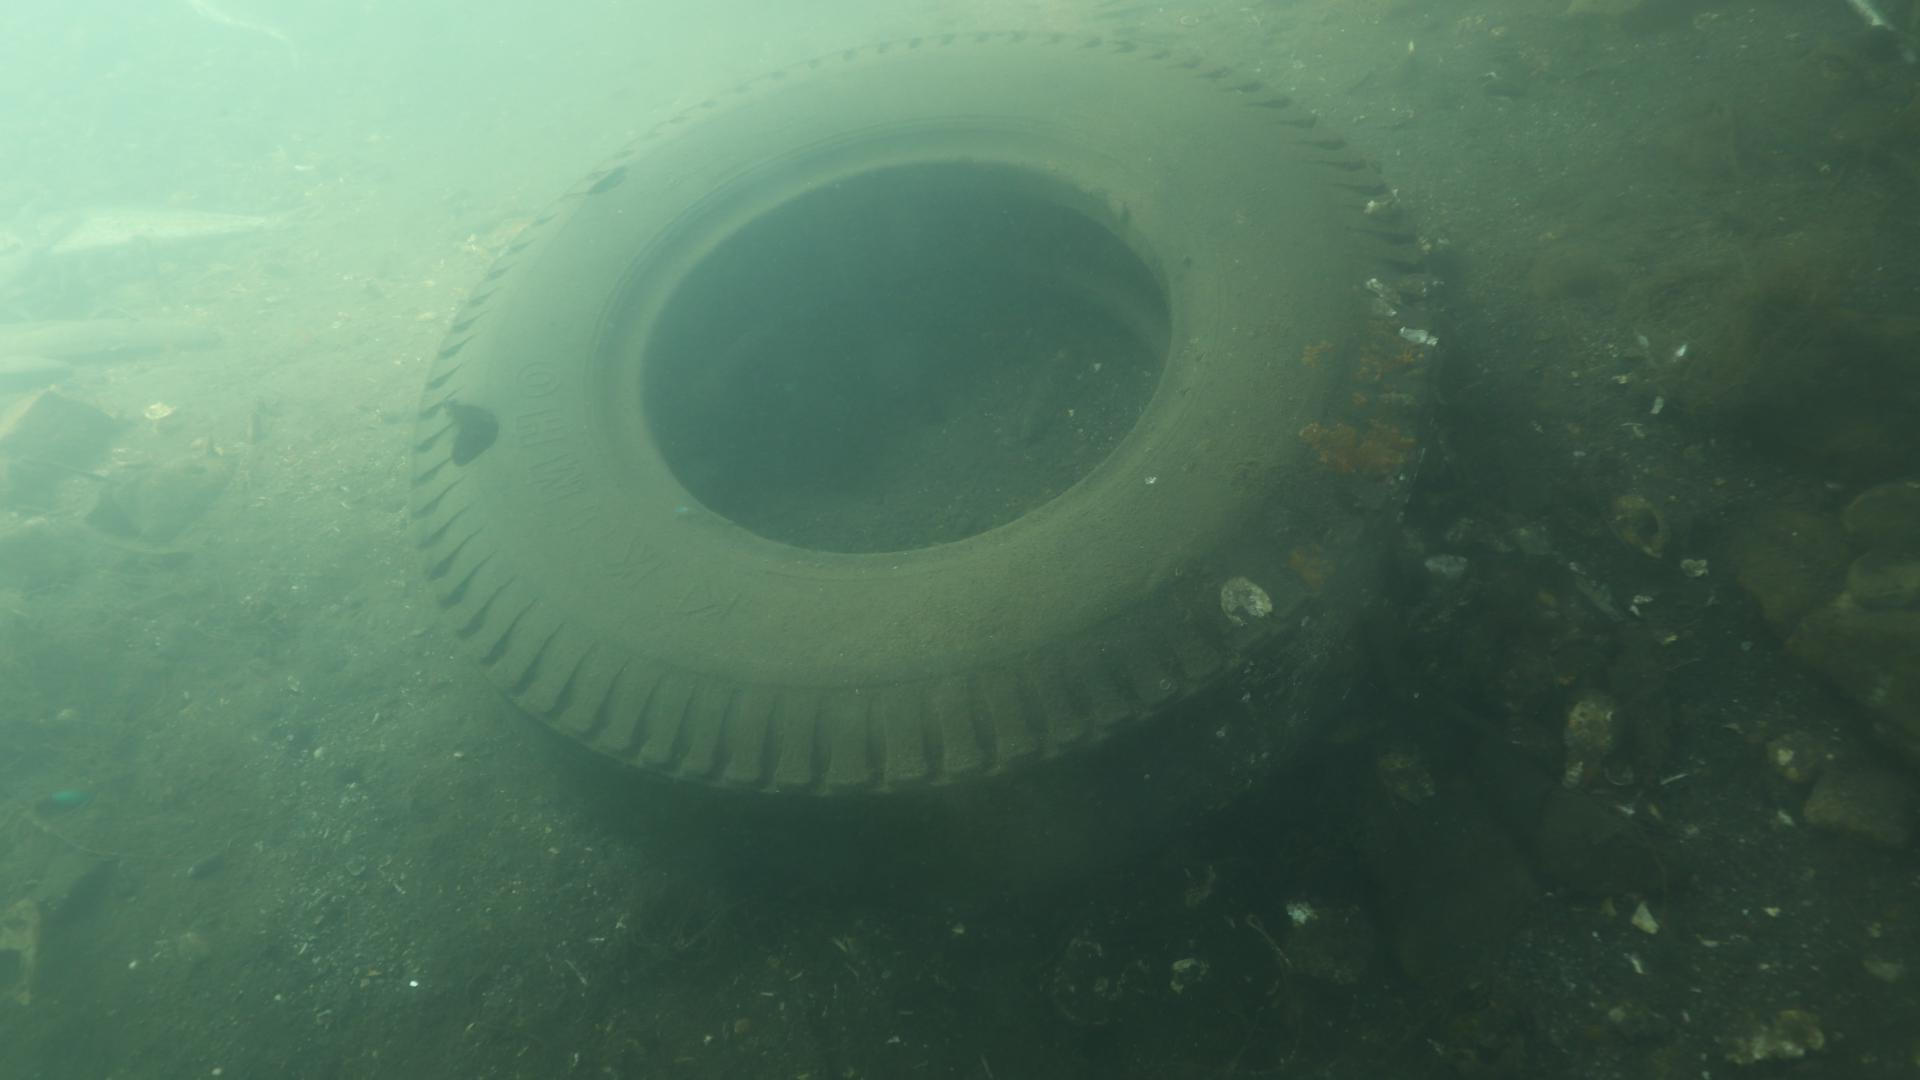tire: (406, 30, 1437, 849)
